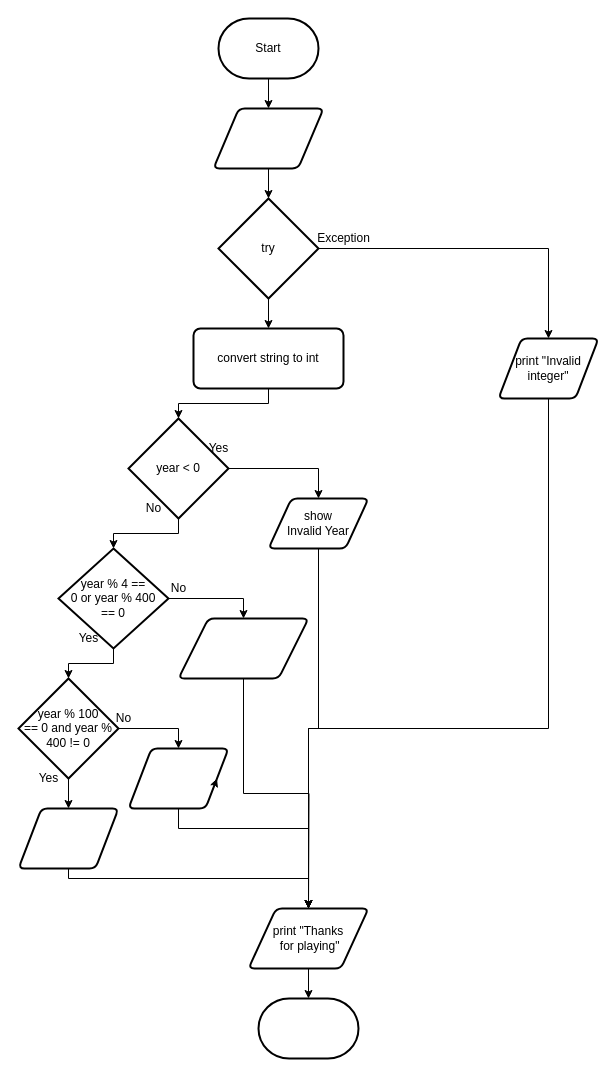
The diagram is 616 pixels wide and 1076 high, and some of its shapes have lost their labels. The centre of each missing label's shape, as x and y in pixels:
Ask for year: (x=268, y=138)
Show "This is not a leap year": (x=243, y=648)
Stop: (x=308, y=1028)
This is a leap year: (x=178, y=778)
This is not a leap year: (x=68, y=838)
